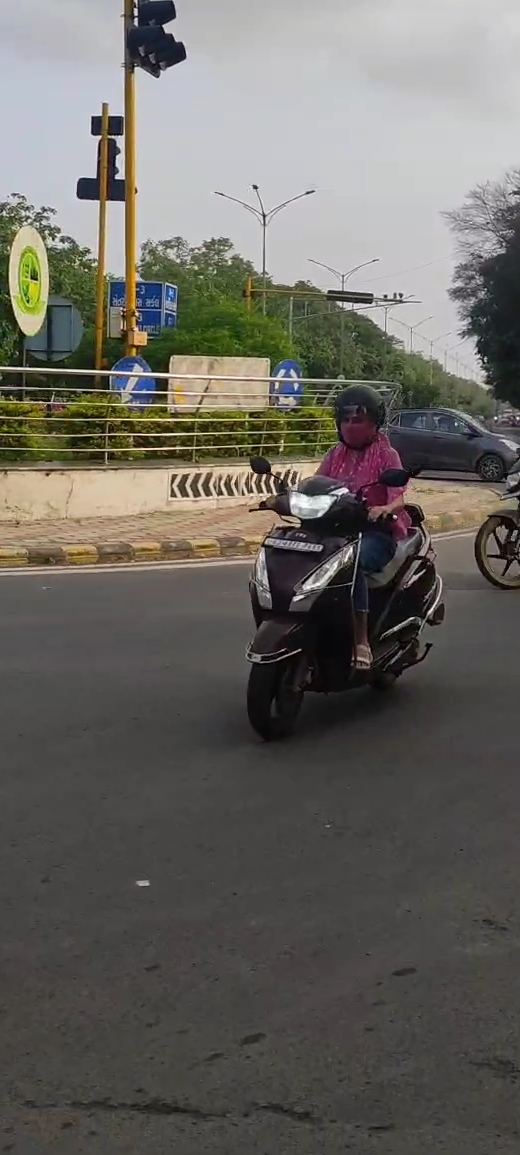BikeWithRider: (222, 375, 454, 751)
Helmet: (328, 377, 390, 461)
